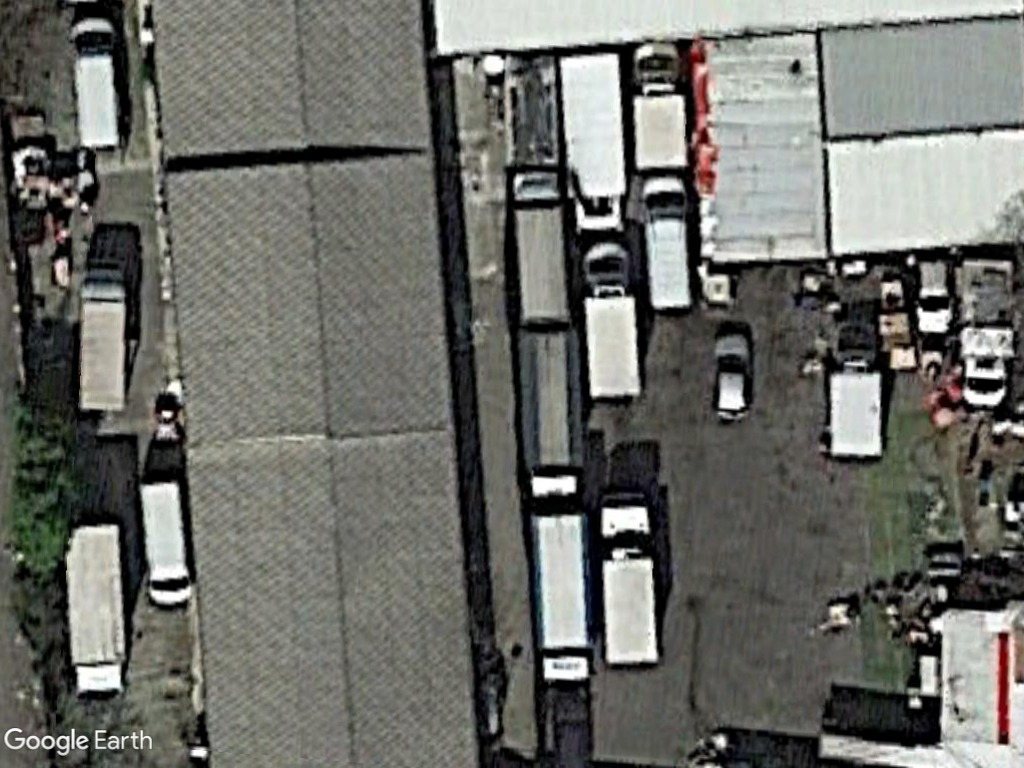car: (709, 330, 757, 425)
truck: (555, 51, 635, 239), (59, 521, 135, 704), (594, 488, 665, 675), (527, 507, 598, 688), (516, 327, 587, 507), (70, 252, 139, 419), (579, 242, 648, 406), (508, 169, 574, 326), (823, 321, 891, 464), (637, 174, 701, 315), (629, 39, 687, 177)
van: (65, 13, 129, 158), (132, 477, 197, 611)
